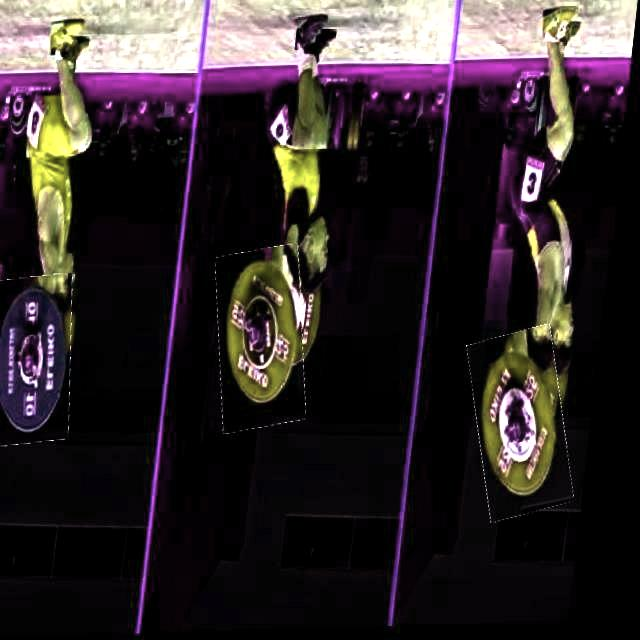barbell: (470, 330, 590, 524), (213, 248, 325, 435), (1, 276, 90, 447)
